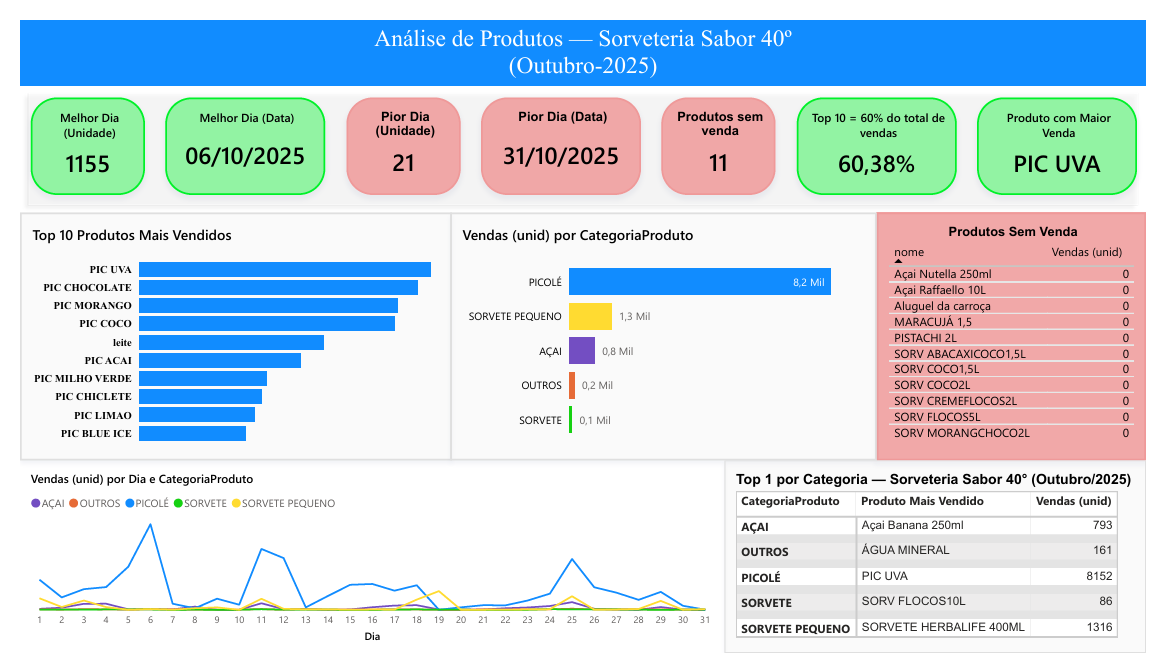

The page's visual inventory and layout, read from the dashboard file:
{"tool":"powerbi","page":{"name":"Análise Produtos","canvas":[1280,720],"ordinal":1},"visuals":[{"type":"shape","box":[0,74,1280,146],"z":0},{"type":"textbox","box":[0,0,1280,74],"z":1000},{"type":"card","title":"Produtos sem venda","fields":{"Values":["sorveteriasabor40.Qtd Produtos Sem Venda"]},"box":[729.3,87.5,130,111],"z":2000},{"type":"tableEx","title":"Produtos Sem Venda","fields":{"Values":["sorveteriasabor40.nome","sorveteriasabor40.Vendas (unid)"]},"box":[974,219,306,282],"z":3000},{"type":"clusteredBarChart","title":"Top 10 Produtos Mais Vendidos","fields":{"Category":["sorveteriasabor40.nome"],"Y":["sorveteriasabor40.Vendas (unid)"]},"box":[0,219,491,282],"z":4000},{"type":"card","title":"Melhor Dia (Unidade)","fields":{"Values":["sorveteriasabor40.Melhor Dia - Vendas (unid)"]},"box":[12,87.5,130,111],"z":5000},{"type":"card","title":"Melhor Dia (Data)","fields":{"Values":["sorveteriasabor40.Melhor Dia - Data"]},"box":[165.3,87.5,182,111],"z":6000},{"type":"card","title":"Pior Dia (Unidade)","fields":{"Values":["sorveteriasabor40.Pior Dia - Vendas (unid)"]},"box":[370.7,87.5,130,111],"z":7000},{"type":"card","title":"Pior Dia (Data)","fields":{"Values":["sorveteriasabor40.Pior Dia - Data"]},"box":[524,87.5,182,111],"z":8000},{"type":"card","title":"Produto com Maior Venda","fields":{"Values":["sorveteriasabor40.Produto Mais Vendido"]},"box":[1088,87.5,182,111],"z":9000},{"type":"card","title":"Top 10 = 60% do total de vendas","fields":{"Values":["sorveteriasabor40.Pct Vendas Top 10"]},"box":[882.7,87.5,182,111],"z":10000},{"type":"clusteredBarChart","fields":{"Category":["sorveteriasabor40.CategoriaProduto"],"Y":["sorveteriasabor40.Vendas (unid)"]},"box":[489.2,218.8,484.4,282.1],"z":11000},{"type":"lineChart","fields":{"Category":["sorveteriasabor40.data.Variation.Hierarquia de datas.Dia"],"Y":["sorveteriasabor40.Vendas (unid)"],"Series":["sorveteriasabor40.CategoriaProduto"]},"box":[0,500.9,801.5,218.8],"z":12000},{"type":"pivotTable","title":"Top 1 por Categoria — Sorveteria Sabor 40° (Outubro/2025)","fields":{"Rows":["sorveteriasabor40.CategoriaProduto"],"Values":["sorveteriasabor40.Produto Mais Vendido","sorveteriasabor40.Vendas (unid)"]},"box":[801.5,500.9,478.5,218.8],"z":13000}]}

Visuals, with their boxes in screenshot pixels (x1, y1, x2, y2), scaled from the page's 1280x720 canvas onto the 1166x672 screenshot:
shape: l=0, t=69, r=1165, b=205
textbox: l=0, t=0, r=1165, b=69
"Produtos sem venda" card: l=664, t=82, r=783, b=185
"Produtos Sem Venda" tableEx: l=887, t=204, r=1165, b=468
"Top 10 Produtos Mais Vendidos" clusteredBarChart: l=0, t=204, r=447, b=468
"Melhor Dia (Unidade)" card: l=11, t=82, r=129, b=185
"Melhor Dia (Data)" card: l=151, t=82, r=316, b=185
"Pior Dia (Unidade)" card: l=338, t=82, r=456, b=185
"Pior Dia (Data)" card: l=477, t=82, r=643, b=185
"Produto com Maior Venda" card: l=991, t=82, r=1157, b=185
"Top 10 = 60% do total de vendas" card: l=804, t=82, r=970, b=185
clusteredBarChart - sorveteriasabor40.CategoriaProduto x sorveteriasabor40.Vendas (unid): l=446, t=204, r=887, b=468
lineChart - sorveteriasabor40.data.Variation.Hierarquia de datas.Dia x sorveteriasabor40.Vendas (unid): l=0, t=468, r=730, b=671
"Top 1 por Categoria — Sorveteria Sabor 40° (Outubro/2025)" pivotTable: l=730, t=468, r=1165, b=671
